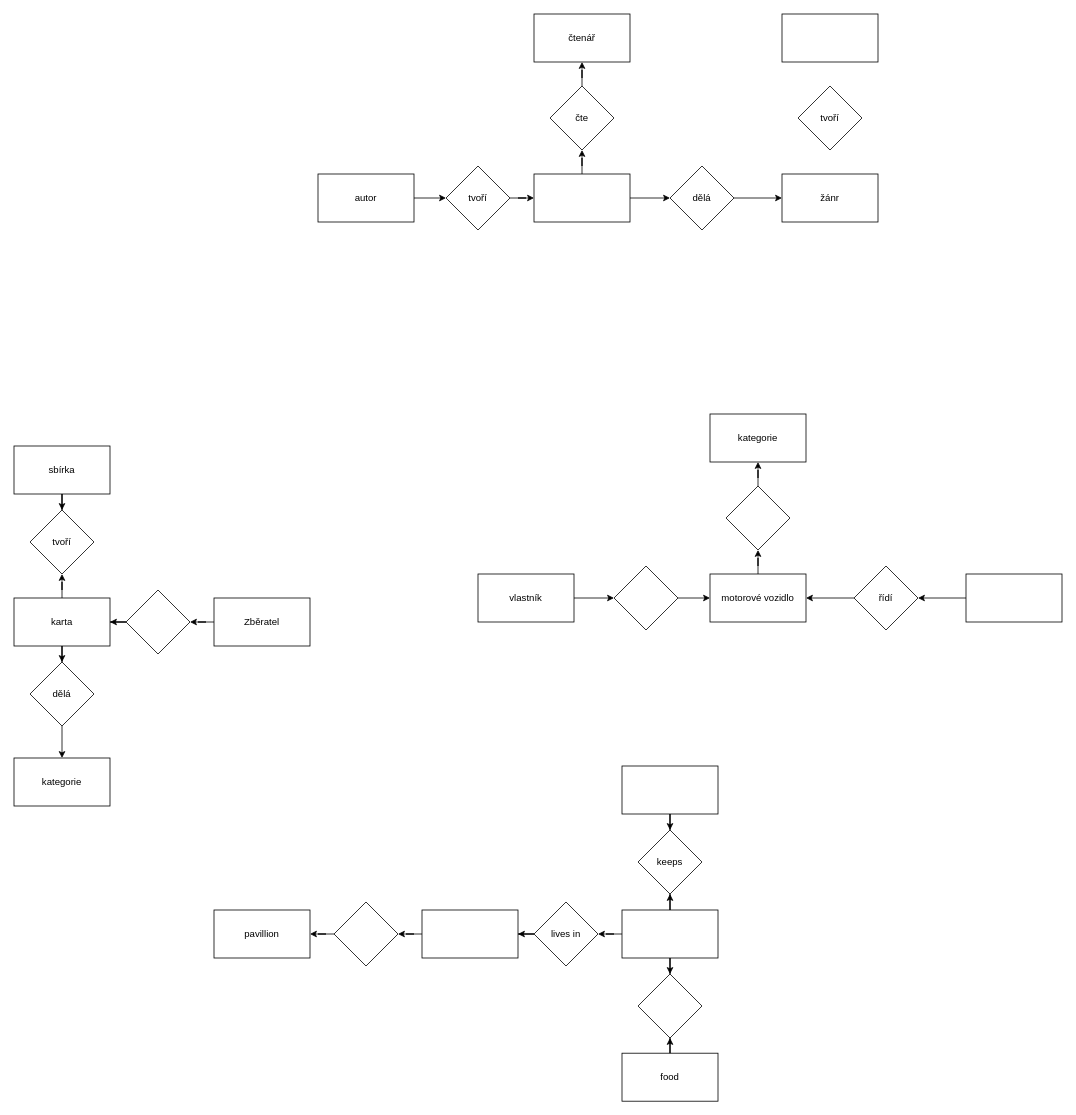
This 1076x1115 diagram has some shape labels left out. Each missing label, with the centre of its shape:
"Animals" goes at (669,933).
"belongs to" goes at (365,933).
"eats" goes at (669,1005).
"Keeper" goes at (669,789).
"kniha" goes at (581,197).
"knihovna" goes at (829,37).
"paddock" goes at (469,933).
"patří" goes at (757,517).
"vlastní" goes at (645,597).
"zbírá" goes at (157,621).
"řidič" goes at (1013,597).
